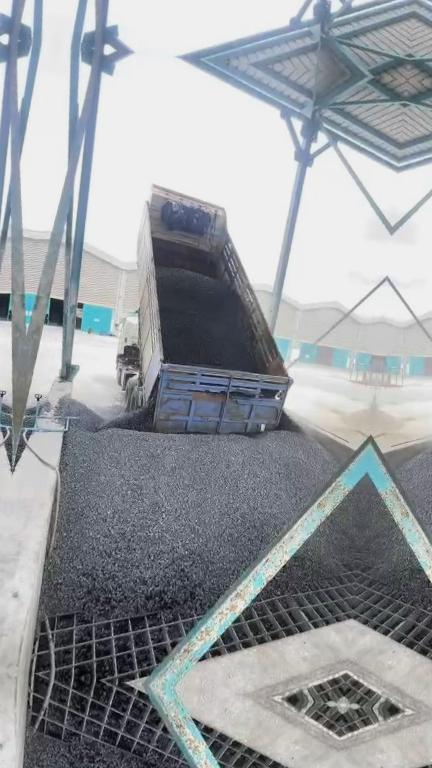gravel: (43, 391, 350, 614), (270, 478, 366, 594), (159, 268, 254, 370)
sand: (311, 404, 373, 448)
